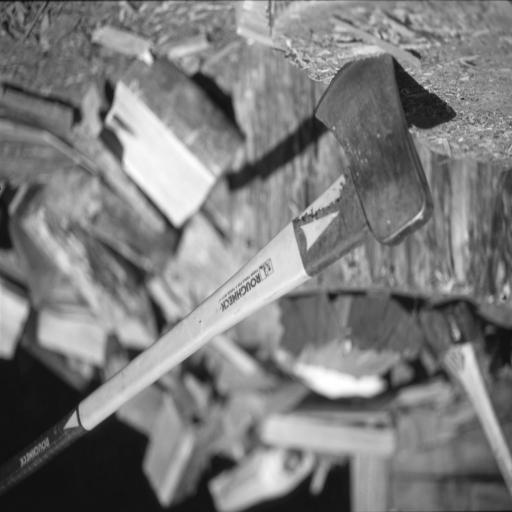Axe: (0, 52, 436, 502)
